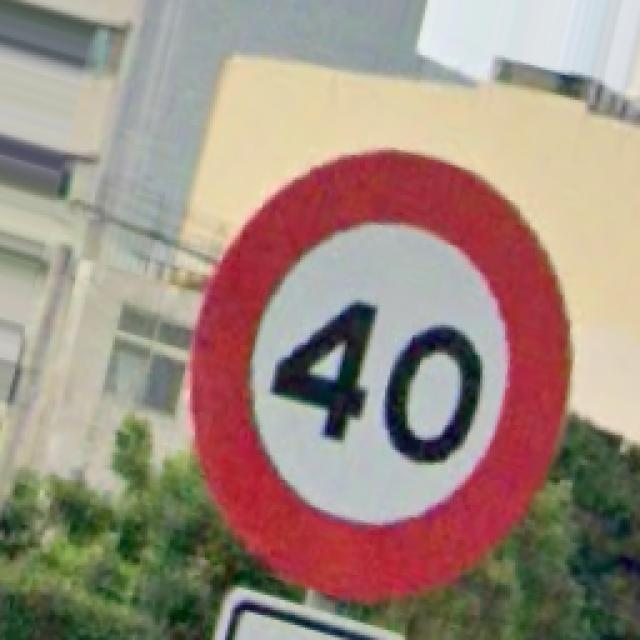Speed Limit -40-: (192, 152, 568, 600)
